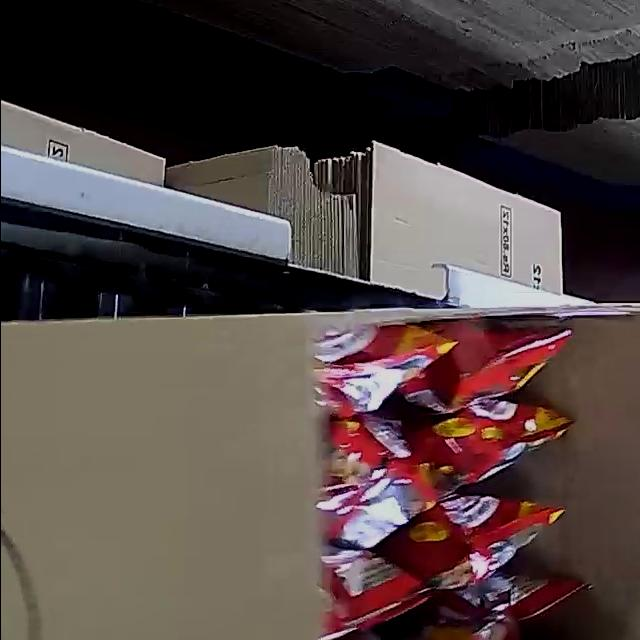masala: (313, 319, 592, 640)
